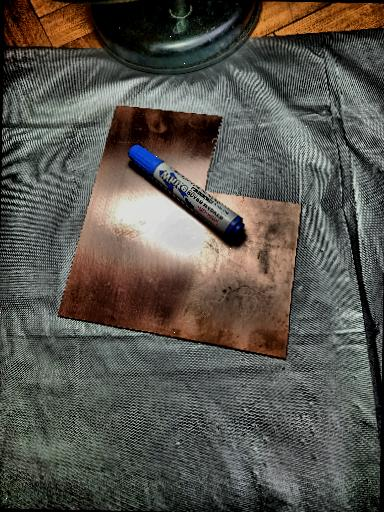marcador azul: (128, 145, 244, 238)
